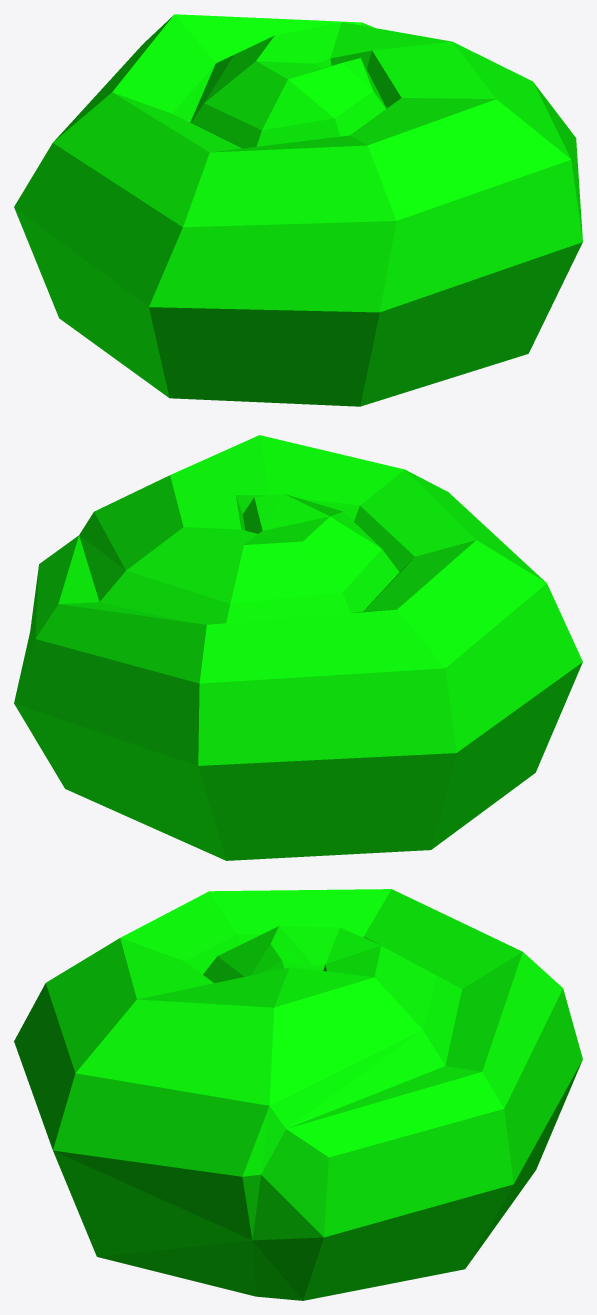
File: SM_Bun_Cinamon.fbx
The picture shows the model from 3 angles, top to bottom: view 1: azimuth 30°, elevation 25°; view 2: azimuth 150°, elevation 25°; view 3: azimuth 270°, elevation 25°; orthographic projection. The views are drawn at different scales.
Visible parts, largest first — view 1: bun-cinamon; view 2: bun-cinamon; view 3: bun-cinamon.
Part boxes in pixels (x1,y1,x2,y2): bun-cinamon: [14, 14, 582, 406]; bun-cinamon: [14, 435, 582, 860]; bun-cinamon: [14, 889, 582, 1300].
Size of the model in its own units: 0.0947 by 0.0484 by 0.0948.
